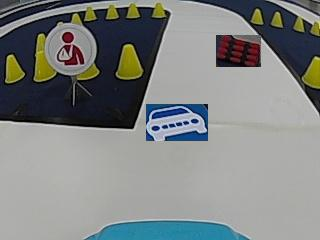cone: (33, 36, 56, 81), (116, 44, 142, 80), (3, 54, 24, 83), (302, 54, 319, 88), (76, 61, 99, 80), (151, 2, 166, 18), (250, 8, 263, 25), (105, 4, 119, 19), (126, 3, 140, 18), (84, 6, 97, 21), (271, 11, 283, 27), (293, 16, 304, 31), (71, 13, 83, 25), (310, 20, 319, 35)
patient: (54, 29, 89, 70)
